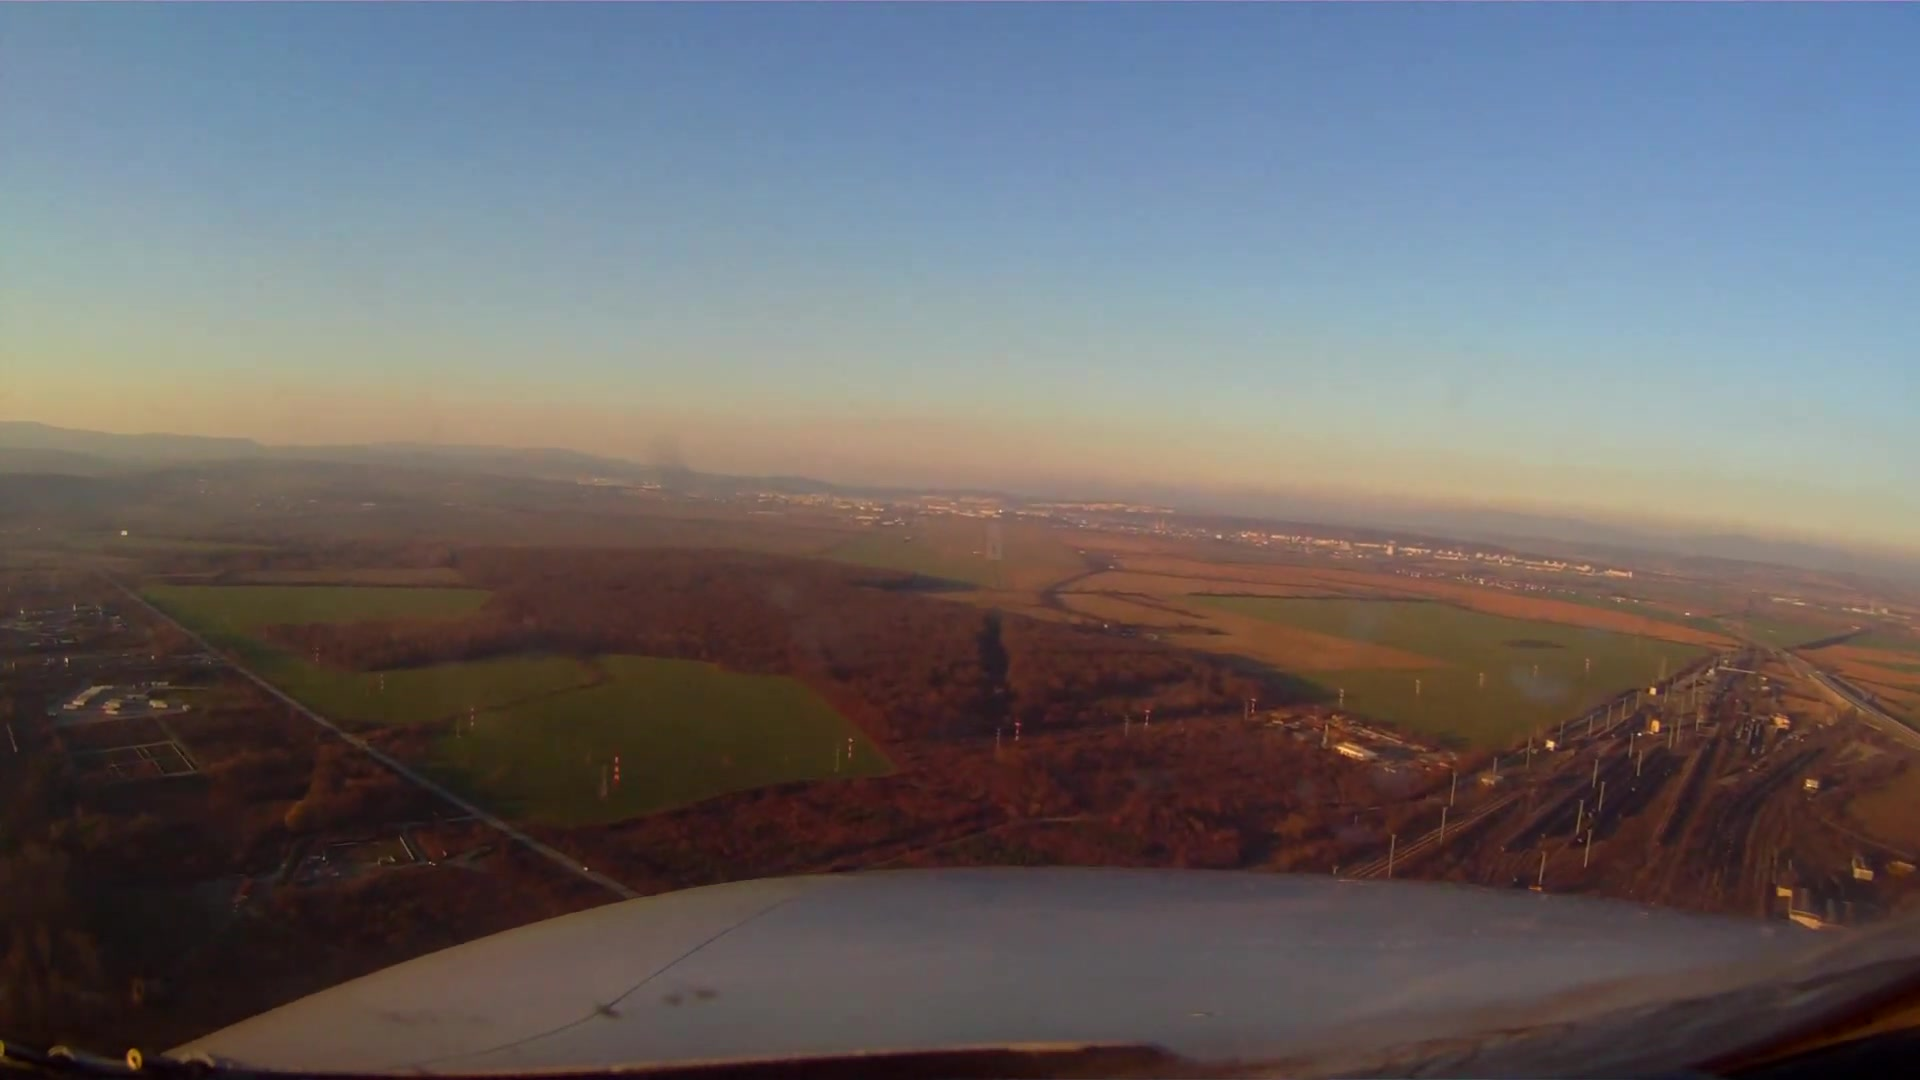runway: (985, 527, 1006, 564)
